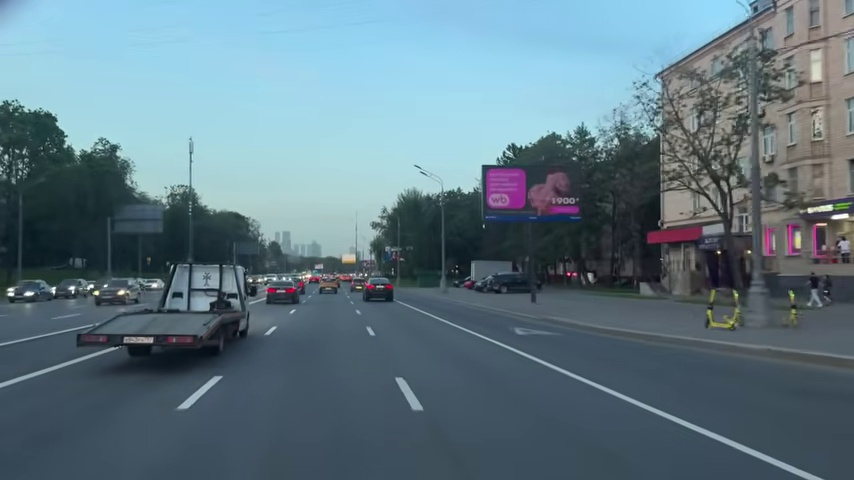apagada: (412, 163, 429, 179)
